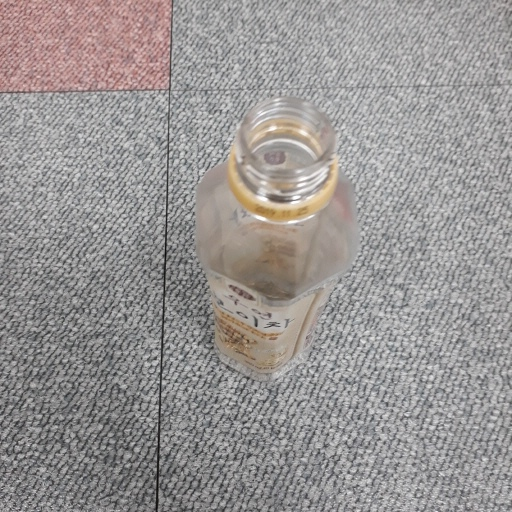Plastic_0: (193, 97, 361, 376)
